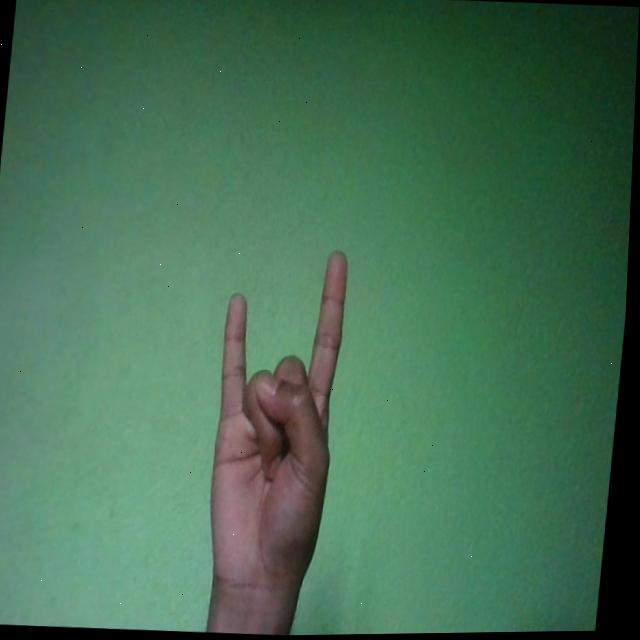Rock On: (204, 245, 351, 606)
